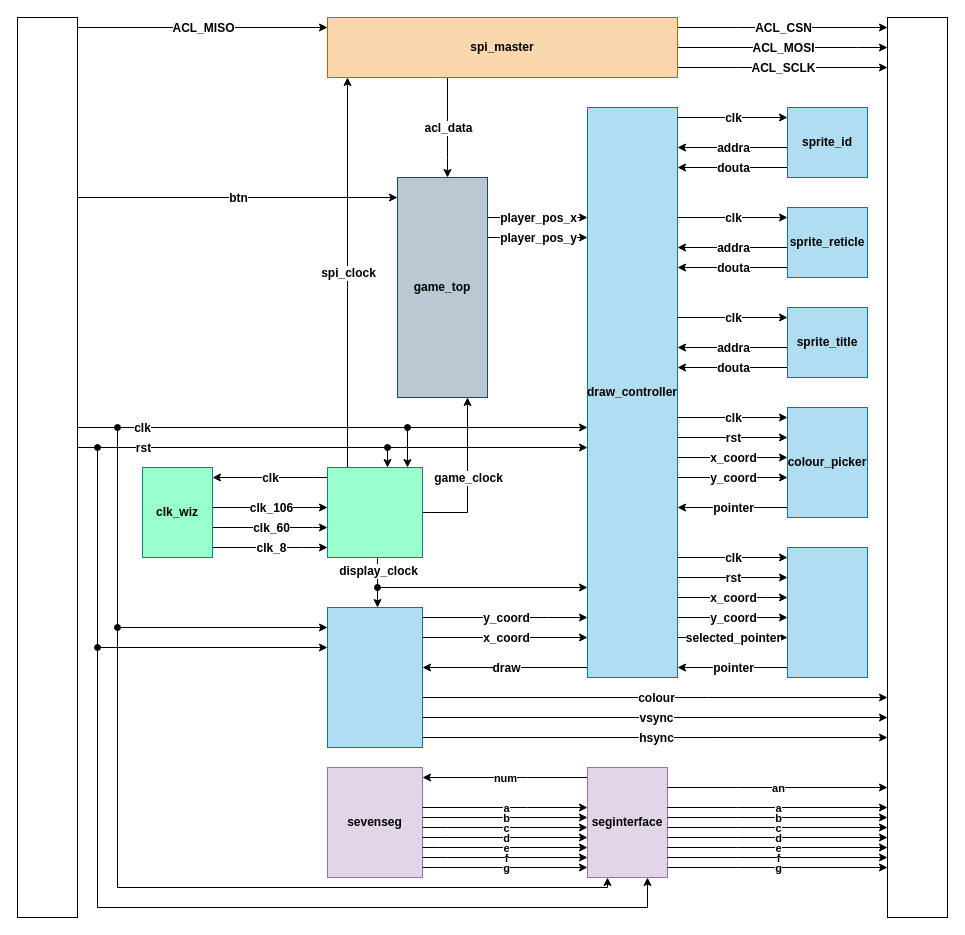
Image size: 965x935. Some labels were removed from this diagram. Each missing label, with the centre of its shape:
"clock_gen" belongs at (x=374, y=512).
"colour_grid" belongs at (x=827, y=612).
"INPUT" belongs at (x=47, y=467).
"OUTPUT" belongs at (x=917, y=467).
"vga_controller" belongs at (x=374, y=677).
